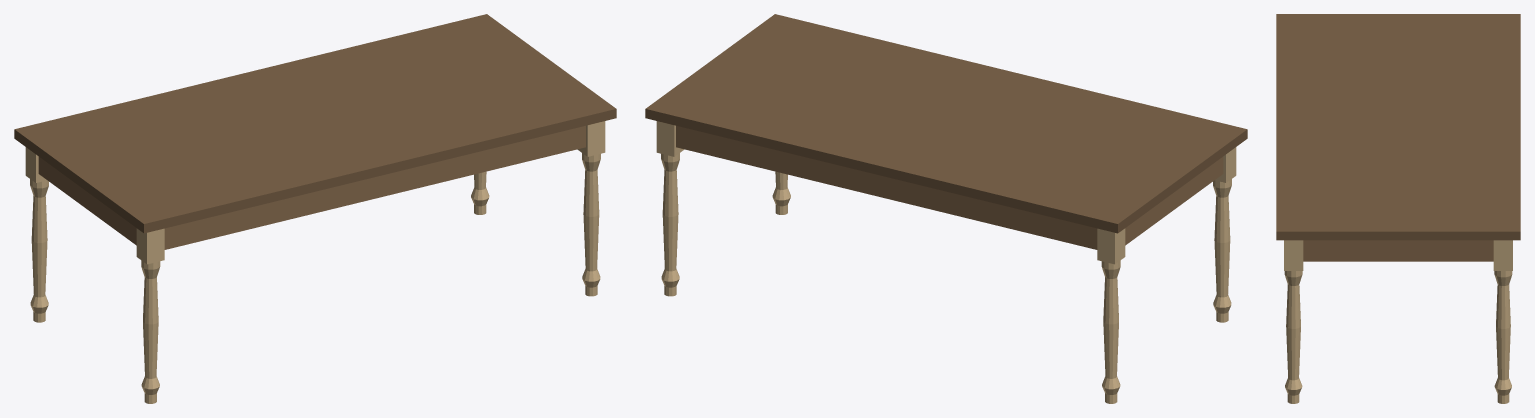
Rendered from BIB-FHT-6-seat.glb.
3 renders of one model, left to right at view 1: azimuth 30°, elevation 25°; view 2: azimuth 150°, elevation 25°; view 3: azimuth 270°, elevation 25°, orthographic. The views are drawn at different scales.
Parts seen in each view (by area): view 1: top:pbr, apron-f:pbr, leg-fl:pbr, leg-fr:pbr, leg-bl:pbr, apron-l:pbr, leg-br:pbr; view 2: top:pbr, apron-b:pbr, leg-bl:pbr, leg-br:pbr, leg-fl:pbr, apron-l:pbr, leg-fr:pbr; view 3: top:pbr, apron-r:pbr, leg-fr:pbr, leg-br:pbr.
Part boxes in pixels (left/top/right/bottom): top:pbr: left=14, top=14, right=616, bottom=233; apron-f:pbr: left=164, top=125, right=585, bottom=249; leg-fl:pbr: left=136, top=228, right=164, bottom=403; leg-fr:pbr: left=577, top=121, right=605, bottom=296; leg-bl:pbr: left=25, top=147, right=48, bottom=322; apron-l:pbr: left=38, top=157, right=136, bottom=245; leg-br:pbr: left=471, top=171, right=489, bottom=214; top:pbr: left=645, top=14, right=1247, bottom=233; apron-b:pbr: left=676, top=125, right=1097, bottom=249; leg-bl:pbr: left=1097, top=228, right=1125, bottom=403; leg-br:pbr: left=656, top=121, right=684, bottom=296; leg-fl:pbr: left=1213, top=147, right=1236, bottom=322; apron-l:pbr: left=1125, top=157, right=1223, bottom=245; leg-fr:pbr: left=772, top=171, right=790, bottom=214; top:pbr: left=1276, top=14, right=1520, bottom=240; apron-r:pbr: left=1303, top=240, right=1493, bottom=261; leg-fr:pbr: left=1284, top=240, right=1303, bottom=403; leg-br:pbr: left=1493, top=240, right=1512, bottom=403.
Bounding box in the file's own units: 2 × 0.76 × 0.95.
